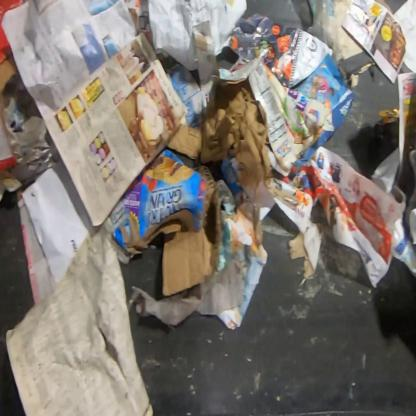cardboard: (102, 146, 220, 298), (166, 83, 273, 183), (0, 0, 29, 172)
soft_plastic: (305, 2, 343, 71)
